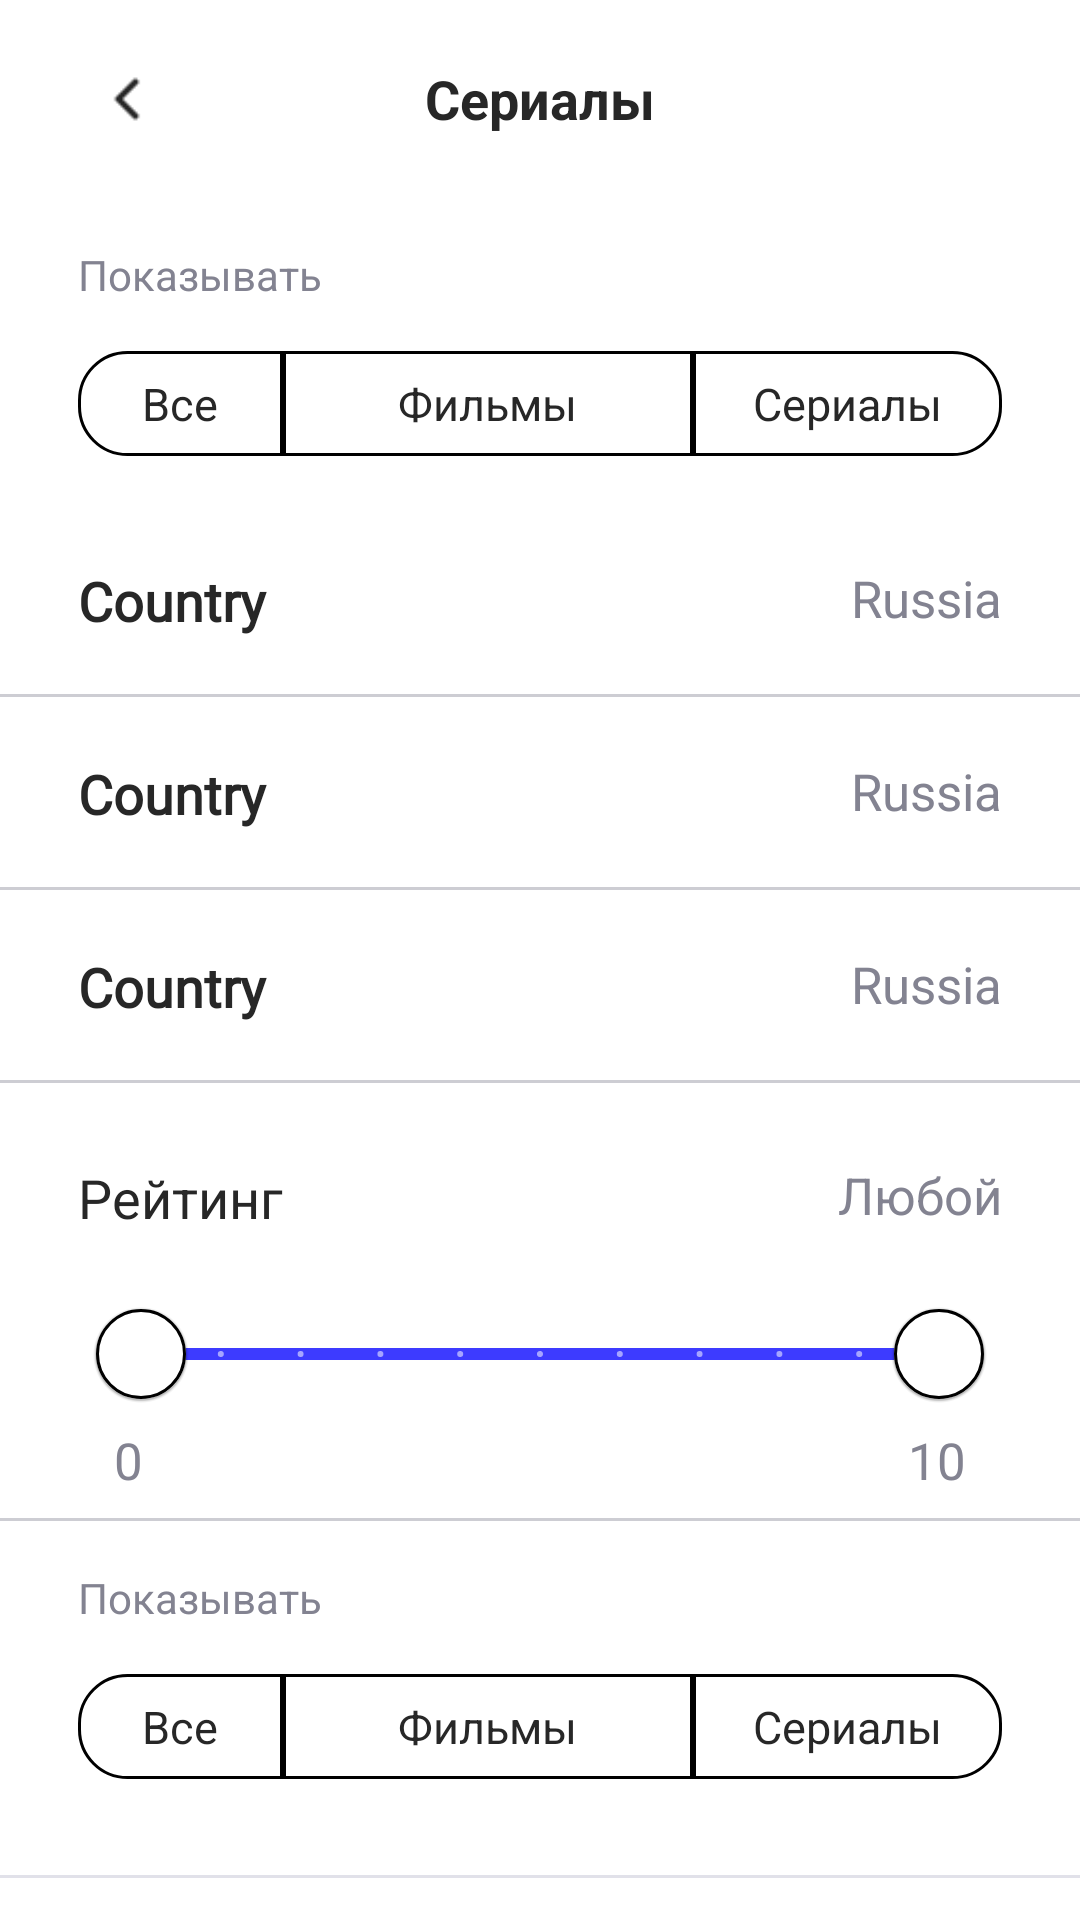

Icons on this 1080×1920 Android screen, each with the point to tap as (x=x, y=y):
back: (x=127, y=99)
